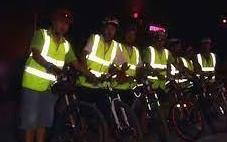Vest: (22, 33, 72, 89), (79, 35, 120, 86), (147, 47, 170, 90)
